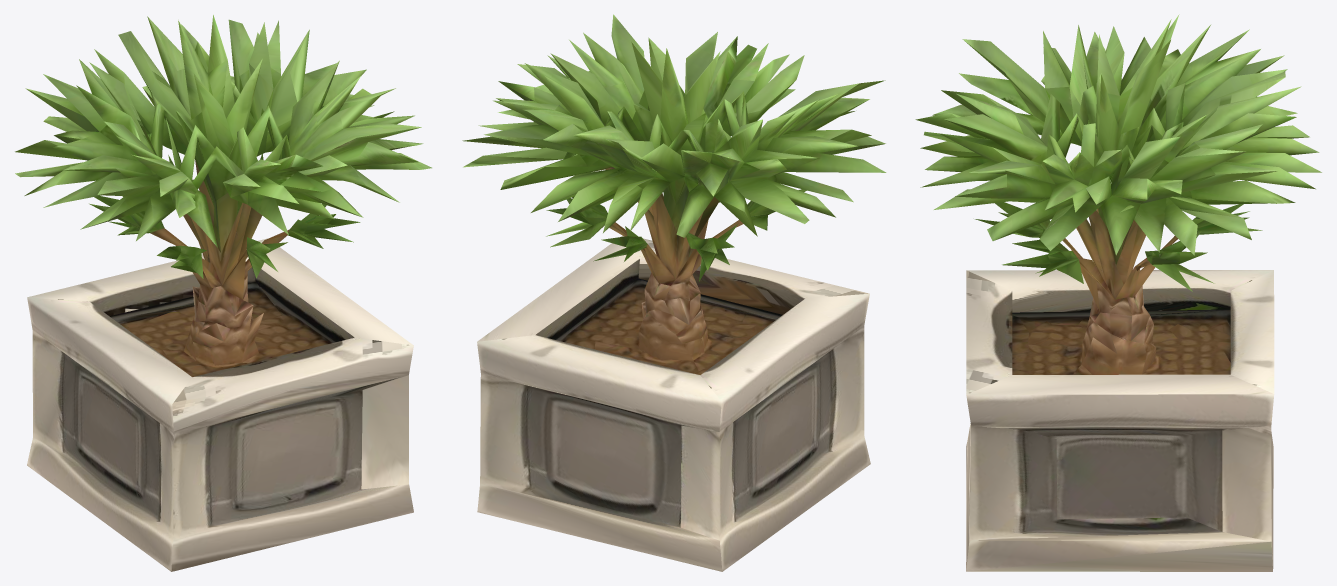
The model's file is palm-planter.glb.
3 views of the same model, side by side, from view 1: azimuth 30°, elevation 25°; view 2: azimuth 150°, elevation 25°; view 3: azimuth 270°, elevation 25° (orthographic). The views are drawn at different scales.
Parts seen in each view (by area): view 1: SM_palm-planter; view 2: SM_palm-planter; view 3: SM_palm-planter.
Boxes of the visible parts, x1=… form: SM_palm-planter: x1=15, y1=15, x2=431, y2=571; SM_palm-planter: x1=462, y1=14, x2=886, y2=571; SM_palm-planter: x1=915, y1=14, x2=1321, y2=571.
Bounding box in the file's own units: 2.11 × 2.6 × 1.99.
1 material, 1 textured.
